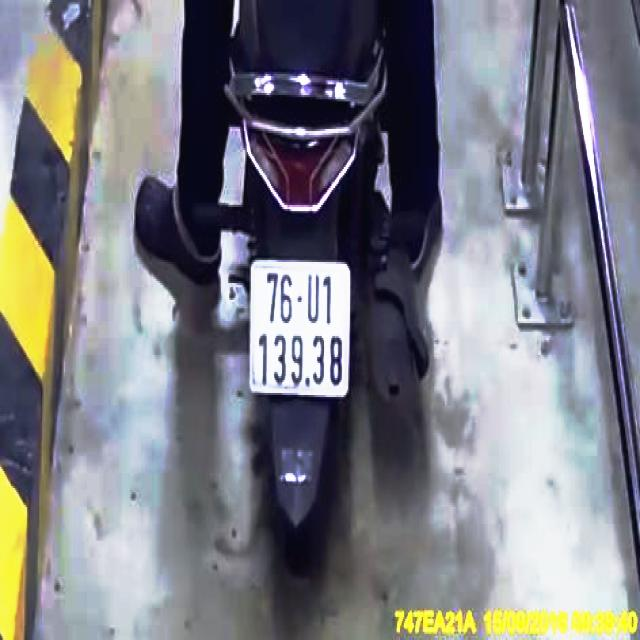license_plate: (248, 259, 352, 399)
